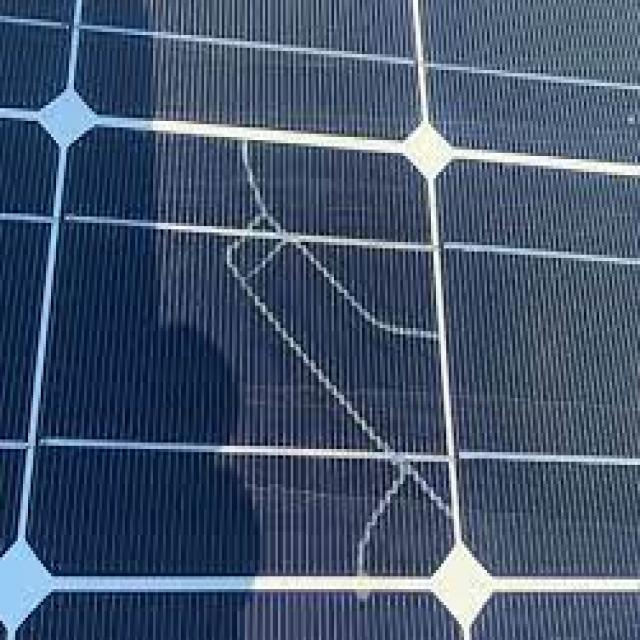faulty: (23, 0, 640, 627)
